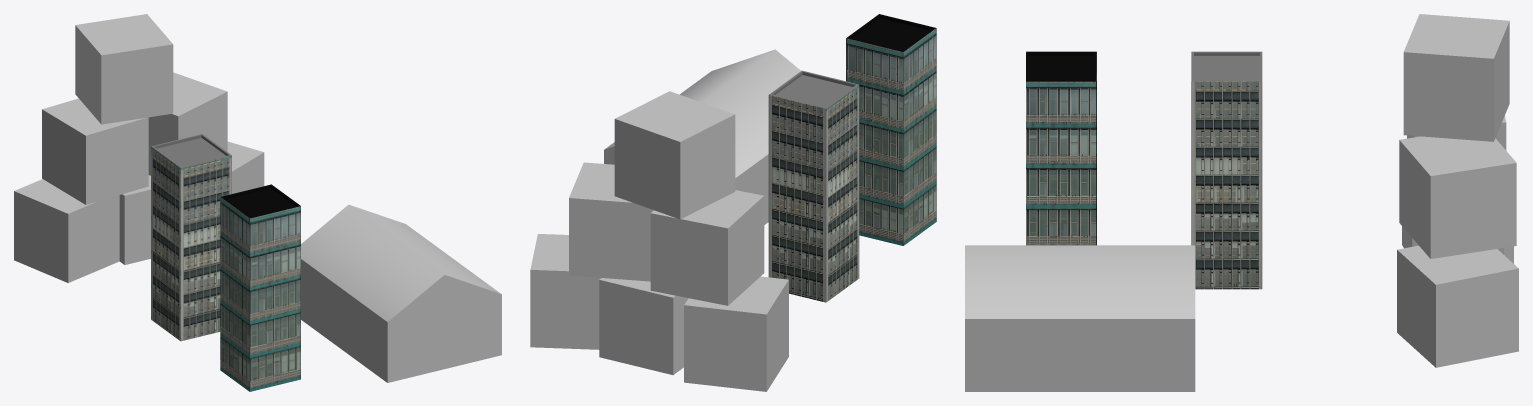
The model's file is LOWPOLY_buildings.FBX.
The picture shows the model from 3 angles, left to right: view 1: azimuth 30°, elevation 25°; view 2: azimuth 150°, elevation 25°; view 3: azimuth 270°, elevation 25°; orthographic projection. The views are drawn at different scales.
Visible parts, largest first — view 1: Box03, Box01, Box02, Box09, Box07, Box06, Box08, Box05, Box04; view 2: Box02, Box01, Box09, Box07, Box06, Box08, Box03, Box05, Box04; view 3: Box03, Box02, Box01, Box08, Box04, Box09.
Boxes of the visible parts, <box> form: Box03: <box>301,204,501,382</box>; Box01: <box>220,184,300,391</box>; Box02: <box>151,134,231,341</box>; Box09: <box>75,14,173,124</box>; Box07: <box>42,98,148,204</box>; Box06: <box>14,179,119,282</box>; Box08: <box>148,72,227,175</box>; Box05: <box>119,175,150,264</box>; Box04: <box>227,141,264,193</box>; Box02: <box>768,70,859,302</box>; Box01: <box>846,14,936,245</box>; Box09: <box>614,91,735,219</box>; Box07: <box>650,190,764,305</box>; Box06: <box>684,276,788,391</box>; Box08: <box>569,162,653,281</box>; Box03: <box>604,49,800,224</box>; Box05: <box>599,278,688,374</box>; Box04: <box>530,234,600,349</box>; Box03: <box>965,245,1195,391</box>; Box02: <box>1191,51,1262,289</box>; Box01: <box>1026,51,1096,245</box>; Box08: <box>1399,136,1516,258</box>; Box04: <box>1397,245,1518,367</box>; Box09: <box>1403,14,1509,141</box>.
Size of the model in its own units: 1644 by 1243 by 2450.
